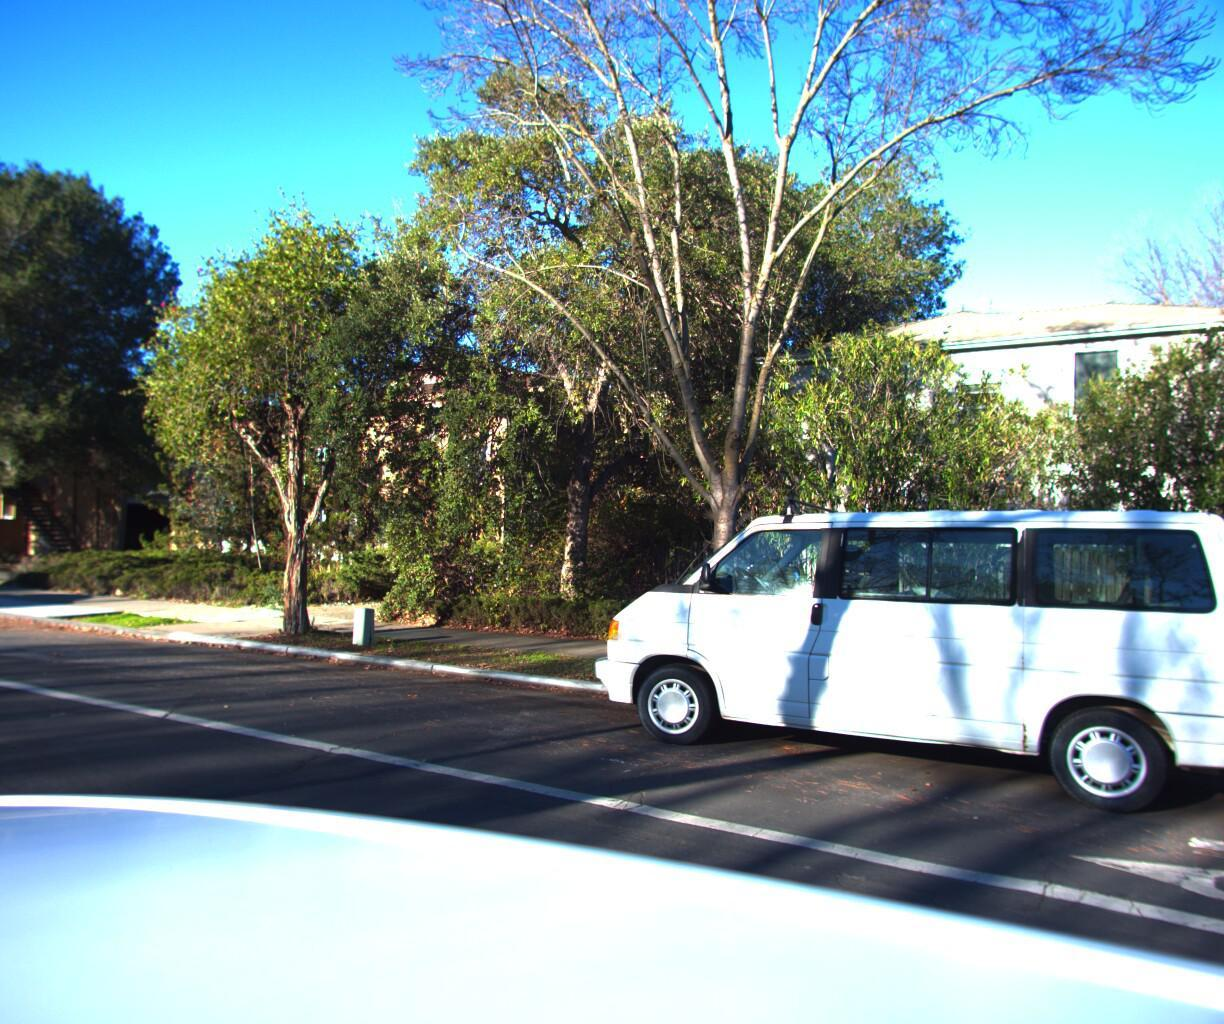bicycle: (17, 533, 69, 566)
car: (549, 470, 1224, 854)
